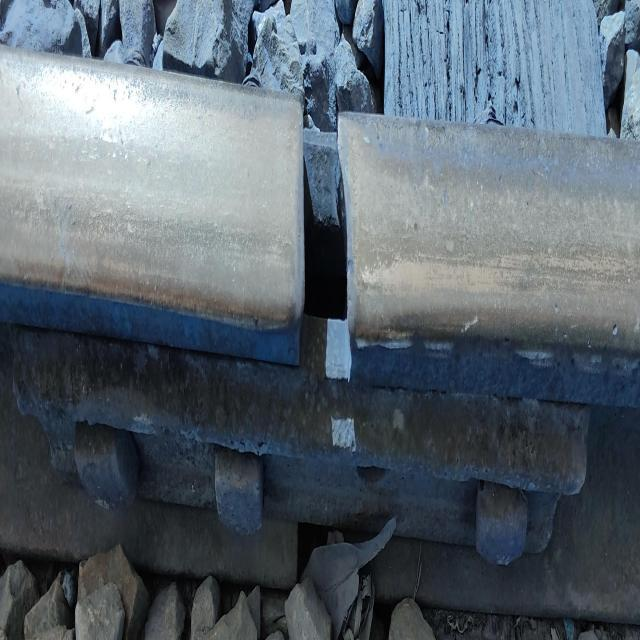Defective Joint: (28, 337, 592, 548)
